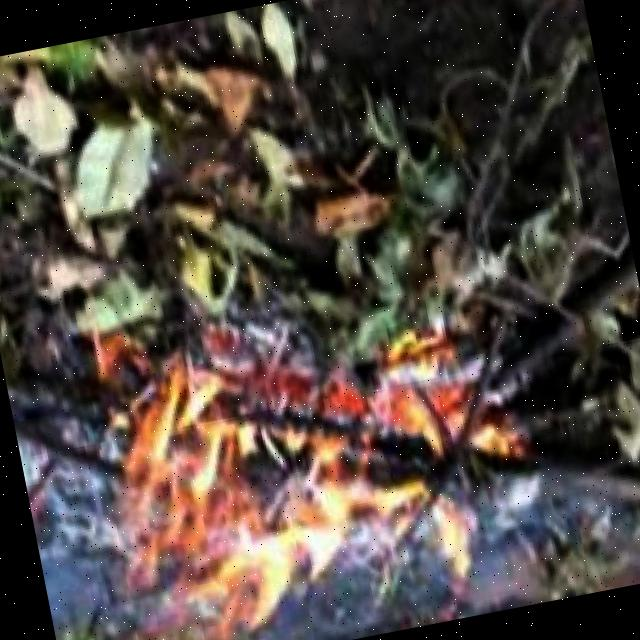fire: (65, 286, 551, 640)
